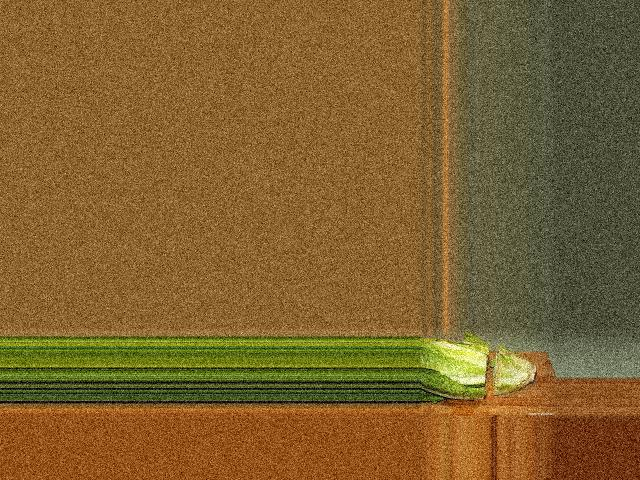lettuce: (421, 334, 534, 407)
